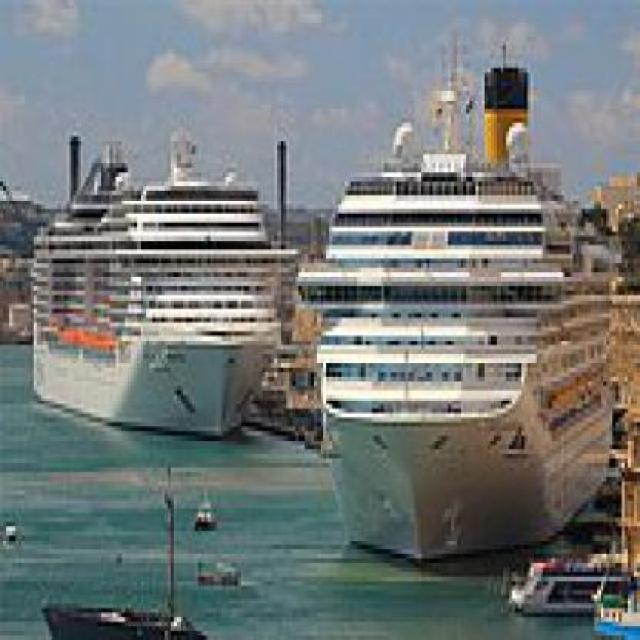cruise: (284, 101, 626, 564), (31, 133, 300, 451)
